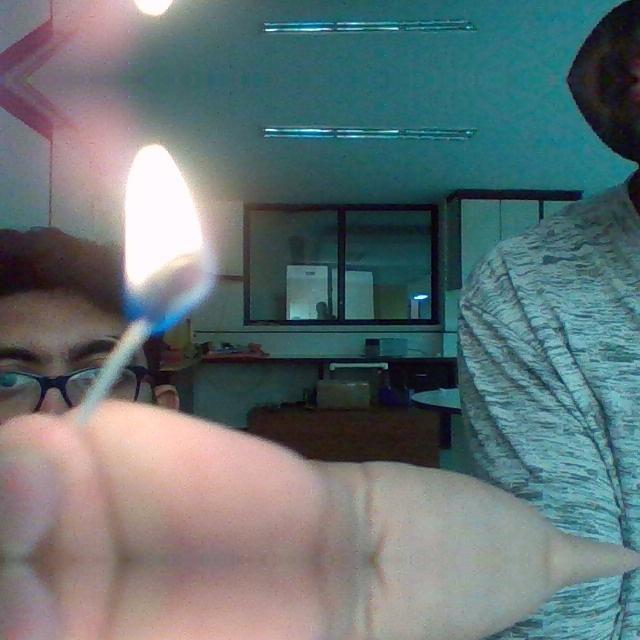smoke: (115, 142, 221, 336)
